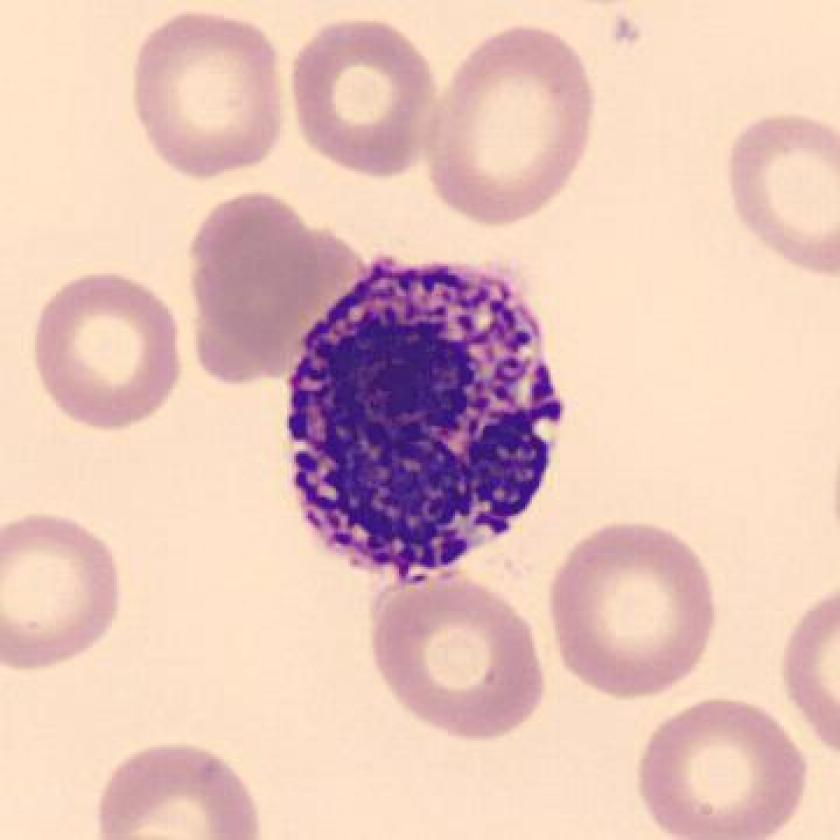basophil: (276, 249, 559, 589)
